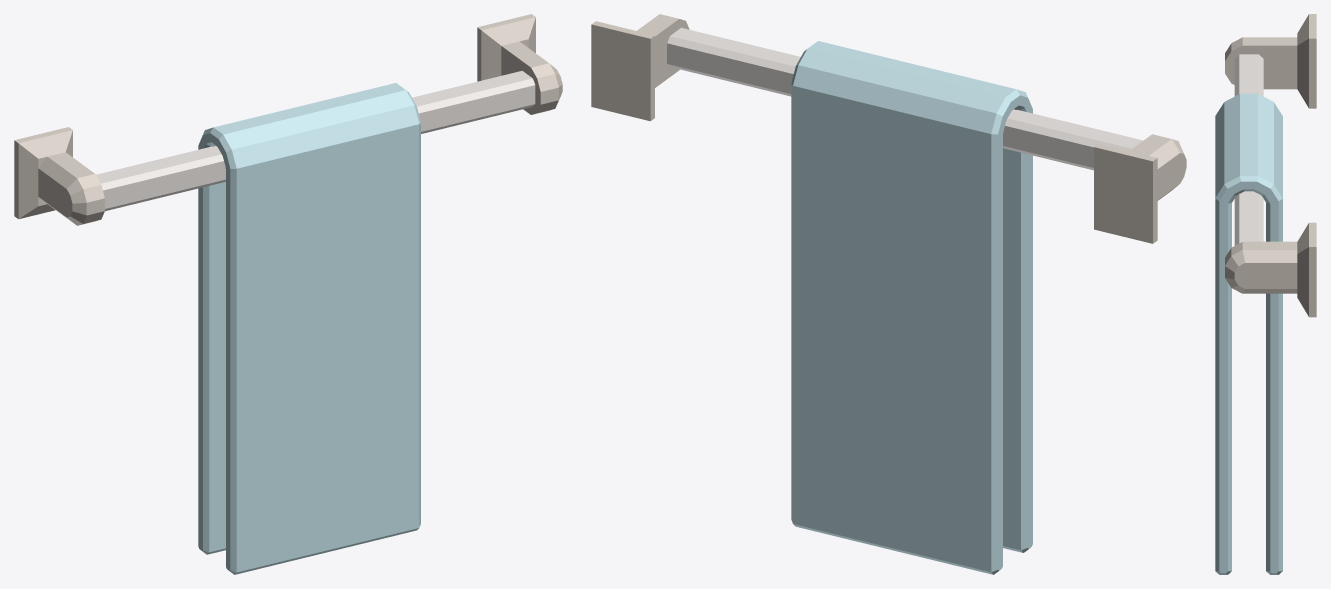
File: Prop_Bathroom_Towel_Rack_Stocked.glb
3 renders of one model, left to right at view 1: azimuth 30°, elevation 25°; view 2: azimuth 150°, elevation 25°; view 3: azimuth 270°, elevation 25°, orthographic. The views are drawn at different scales.
Parts seen in each view (by area): view 1: Prop_Bathroom_Towel_Rack_Stocked; view 2: Prop_Bathroom_Towel_Rack_Stocked; view 3: Prop_Bathroom_Towel_Rack_Stocked.
Part boxes in pixels (x1,y1,x2,y2): Prop_Bathroom_Towel_Rack_Stocked: [14, 14, 562, 574]; Prop_Bathroom_Towel_Rack_Stocked: [591, 14, 1186, 574]; Prop_Bathroom_Towel_Rack_Stocked: [1215, 14, 1316, 574].
Size of the model in its own units: 0.7125 by 0.575 by 0.1312.
